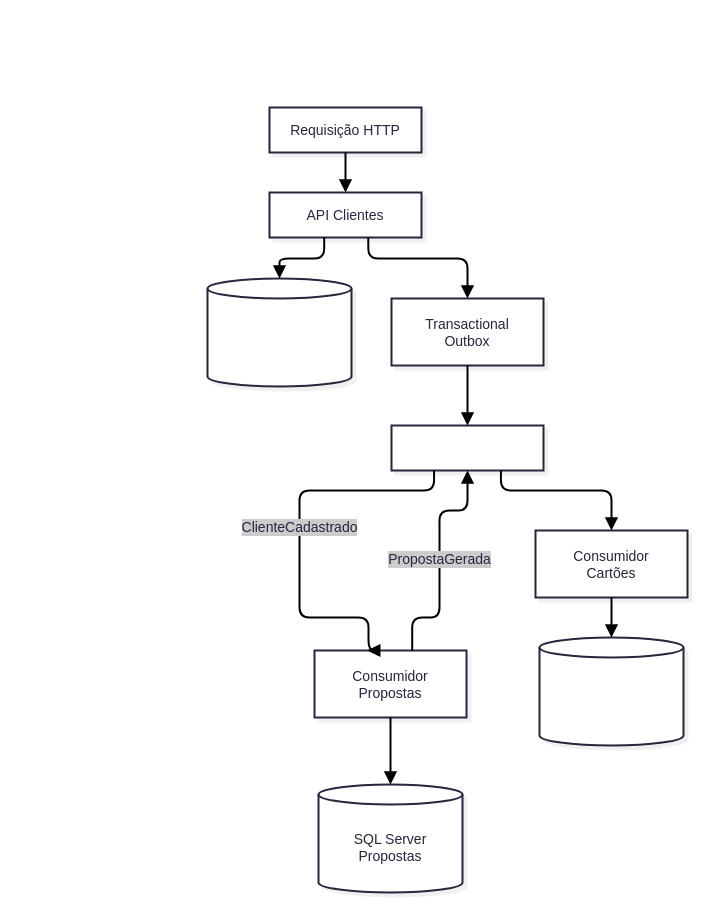
The diagram is 709 pixels wide and 914 high, and some of its shapes have lost their labels. Here are the shapes that lost their labels. From the top down, the centre of each, then its label:
(x=281, y=334): SQL Server Clientes
(x=469, y=449): RabbitMQ
(x=613, y=693): SQL Server Cartões
